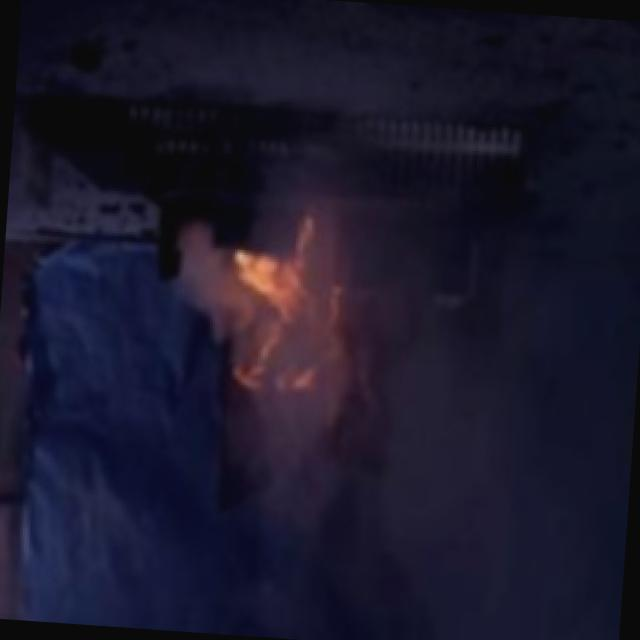fire: (214, 241, 335, 413)
